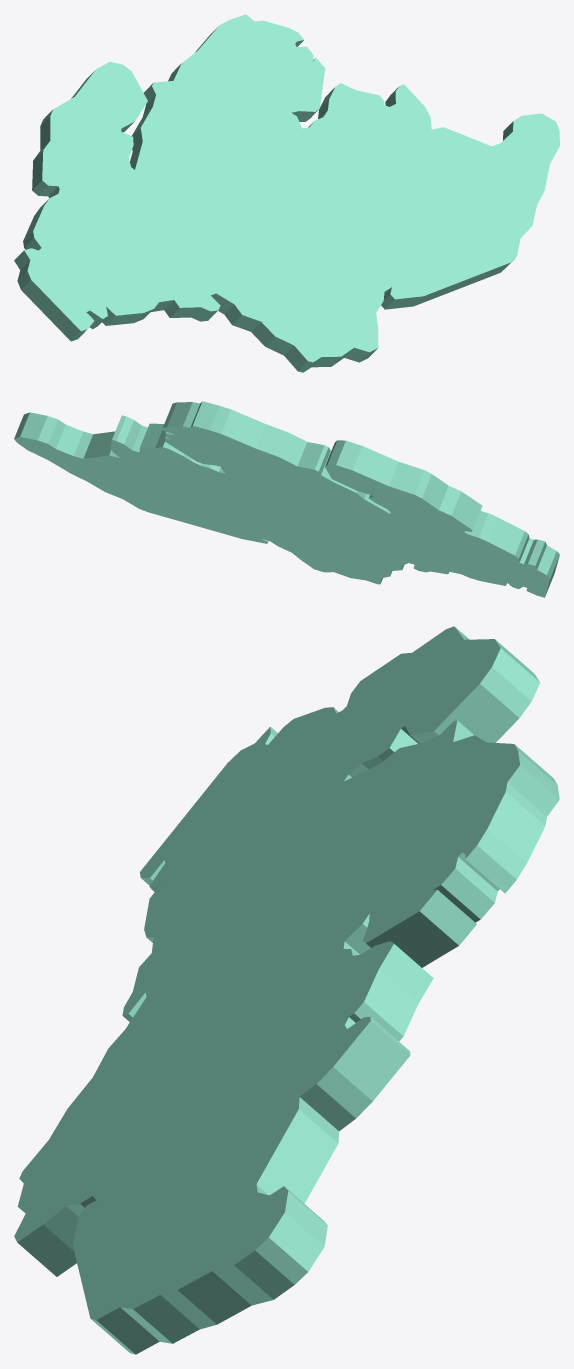
The model's file is singapore-map.gltf.
3 views of the same model, one above another, from view 1: azimuth 30°, elevation 25°; view 2: azimuth 150°, elevation 25°; view 3: azimuth 270°, elevation 25° (orthographic). The views are drawn at different scales.
Parts seen in each view (by area): view 1: Plane.001; view 2: Plane.001; view 3: Plane.001.
Boxes of the visible parts, <box> form: Plane.001: <box>14,14,559,372</box>; Plane.001: <box>14,401,559,597</box>; Plane.001: <box>14,626,559,1354</box>.
Size of the model in its own units: 1.25 by 0.5776 by 0.5591.
